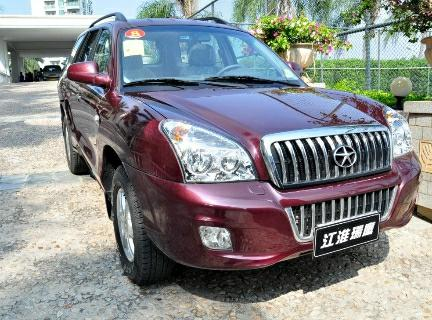car: (32, 5, 428, 295)
